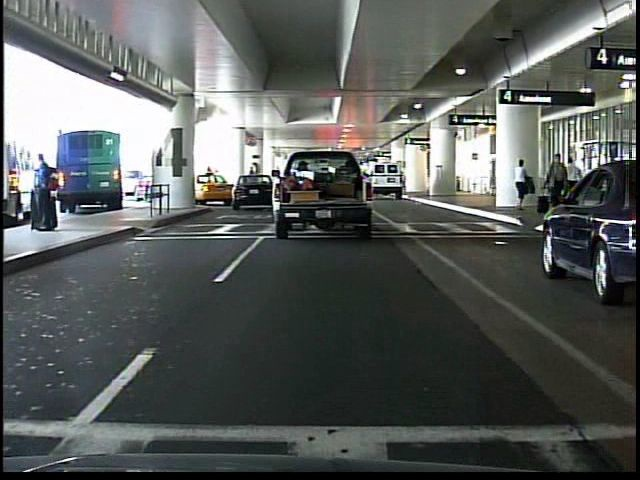person: (28, 143, 64, 238), (546, 148, 573, 202), (562, 155, 584, 217), (510, 155, 533, 212)
